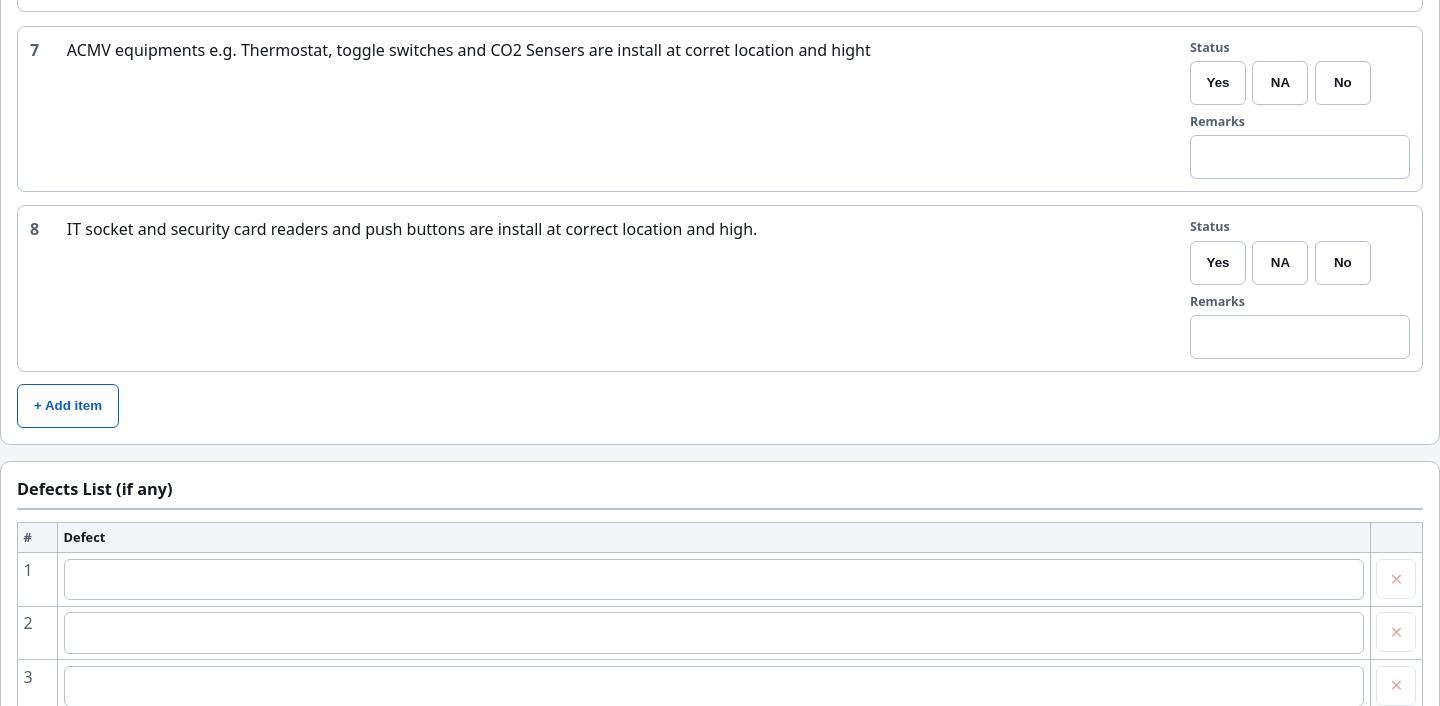
Test: Wall Closure template › lets an engineer append an ad-hoc checklist item
The width and height of the screenshot is (1440, 706).
(page scrolled)
Click the button "+ Add item" at x=68, y=406, box [17,384,119,428]
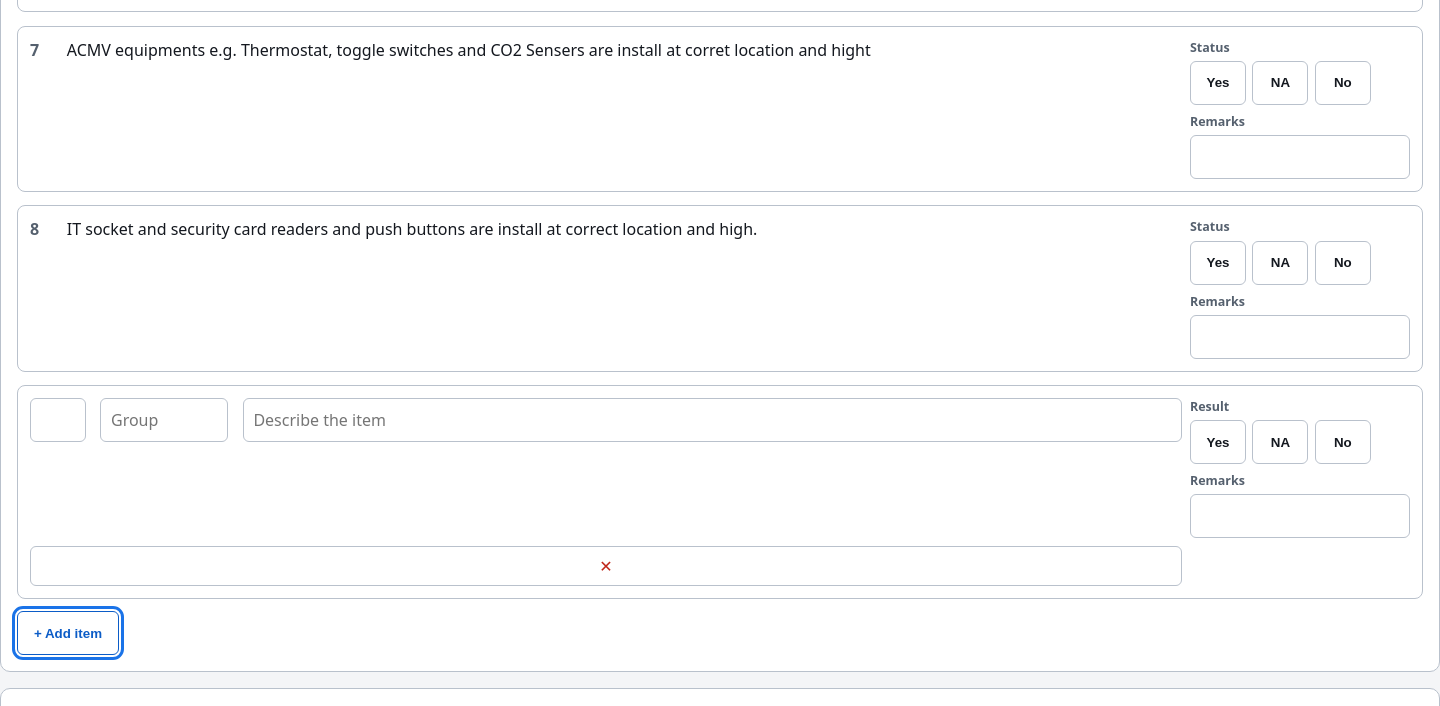
Now the field named "Added item description" is shown, box [243,398,1182,442]
